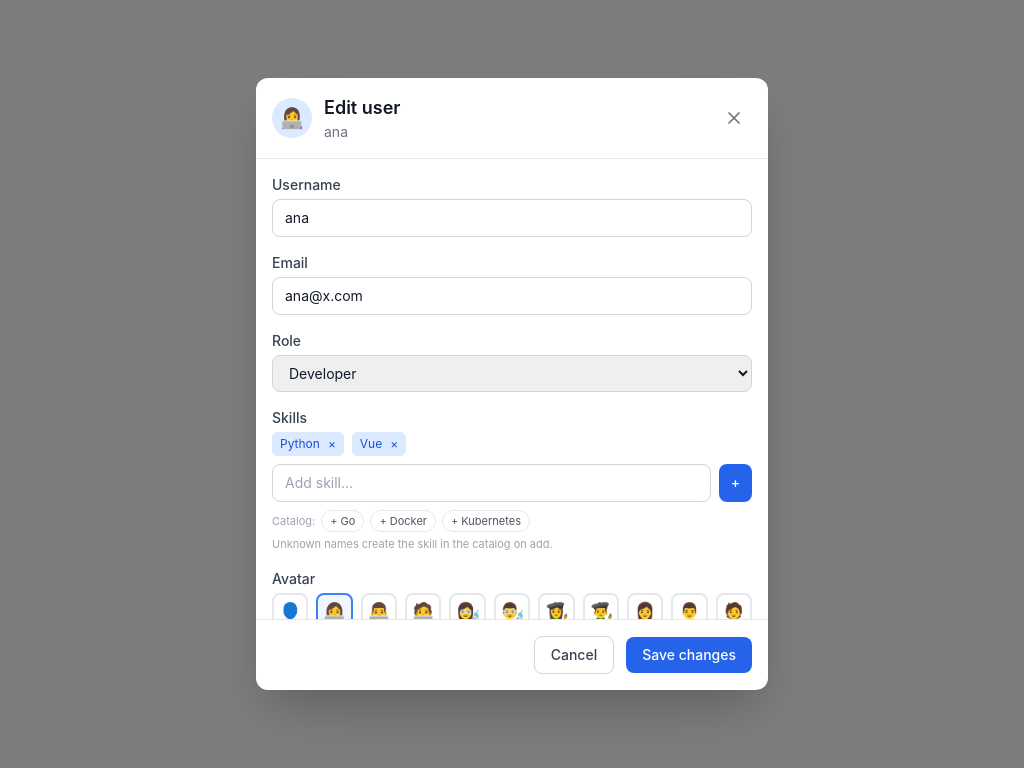
EditUserModal — skills stay local until Save changes (#576 follow-up) › filters the catalog chips by what is typed in the input
This screenshot has width=1024, height=768.
In the field with placeholder "Add skill...": (491, 483) [272,464,711,502], type "dock"
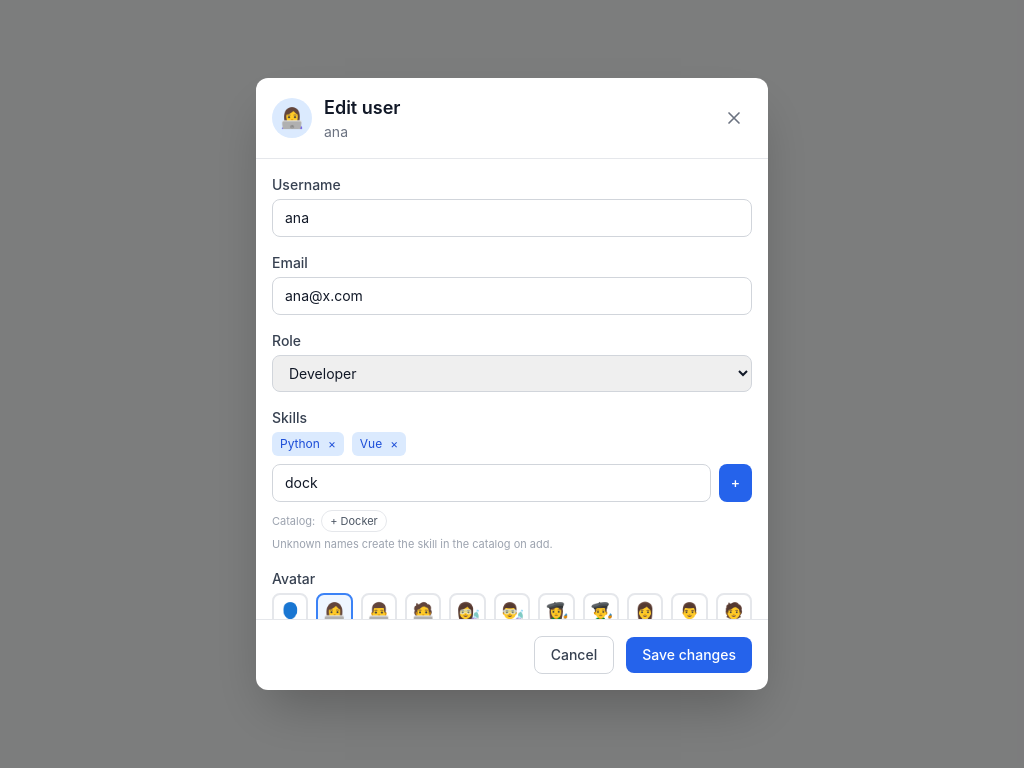
Check: the text "Docker" is shown, box [321,510,387,532]
Check: the text "Kubernetes" is gone
